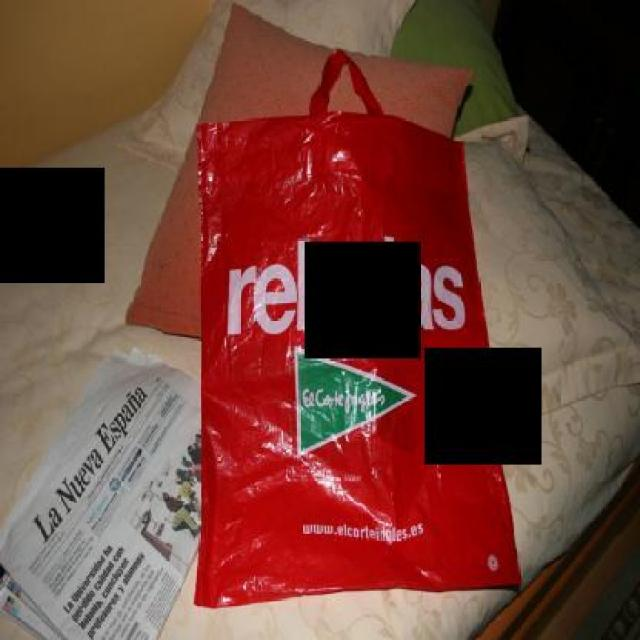plastic bag: (192, 48, 520, 606)
